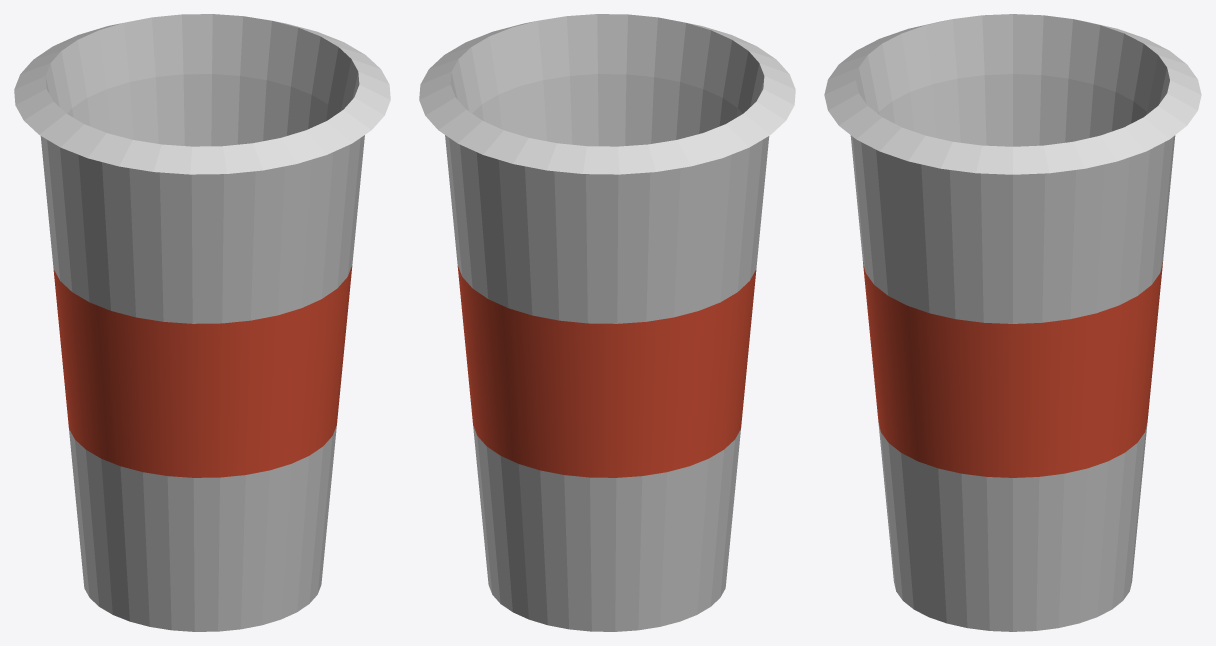
The model's file is PETIT ROUGE.fbx.
3 renders of one model, left to right at view 1: azimuth 30°, elevation 25°; view 2: azimuth 150°, elevation 25°; view 3: azimuth 270°, elevation 25°, orthographic.
Visible parts, largest first — view 1: Circle, Circle.001; view 2: Circle, Circle.001; view 3: Circle, Circle.001.
Boxes of the visible parts, x1,y1,x2,y2 form: Circle: (14,14,390,631); Circle.001: (53,265,352,477); Circle: (419,14,795,631); Circle.001: (457,265,756,477); Circle: (824,14,1201,631); Circle.001: (863,262,1162,477).
Size of the model in its own units: 142 by 208 by 142.
